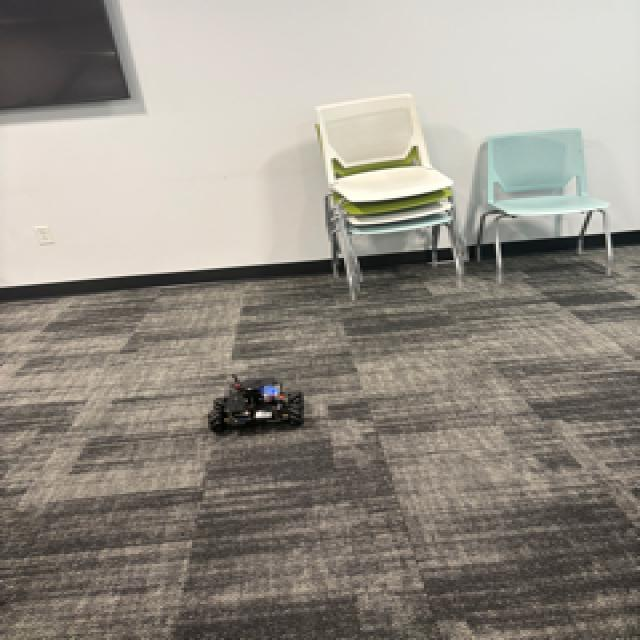ArduinoCar3: (210, 375, 311, 437)
